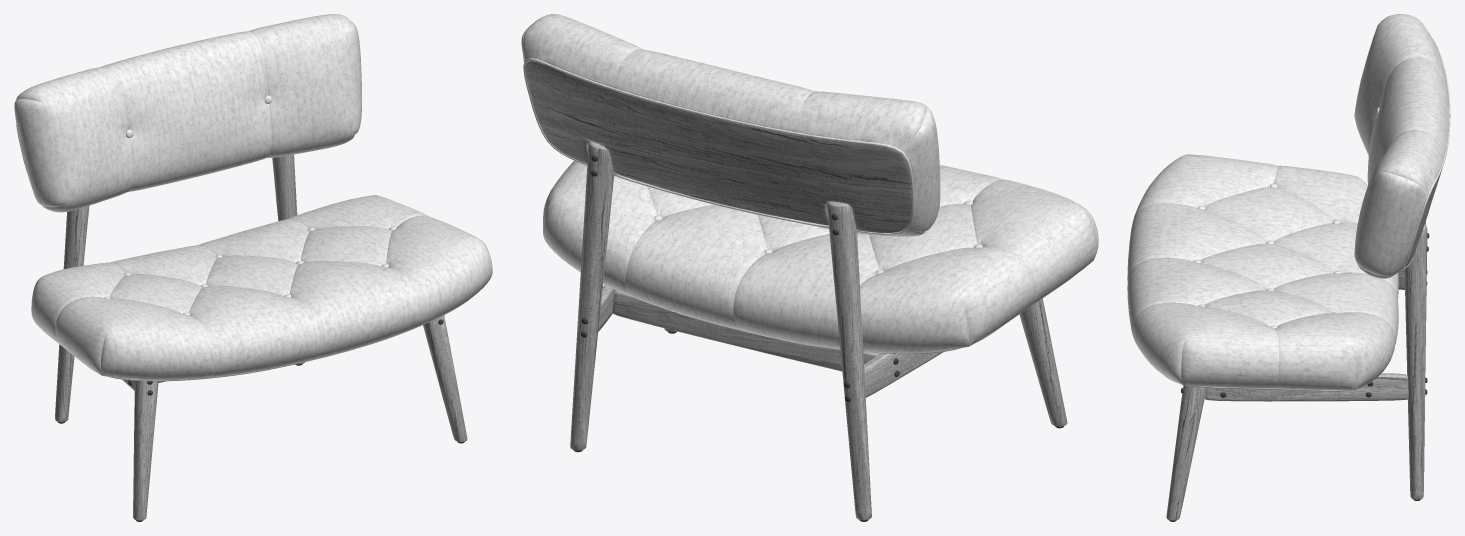
File: Chair_LOD1.obj
The picture shows the model from 3 angles, left to right: view 1: azimuth 30°, elevation 25°; view 2: azimuth 150°, elevation 25°; view 3: azimuth 270°, elevation 25°; orthographic projection. The views are drawn at different scales.
Parts seen in each view (by area): view 1: SheenChair_fabric, SheenChair_wood; view 2: SheenChair_fabric, SheenChair_wood; view 3: SheenChair_fabric, SheenChair_wood.
Boxes of the visible parts, x1,y1,x2,y2 form: SheenChair_fabric: (14,14,492,381); SheenChair_wood: (55,154,467,520); SheenChair_fabric: (521,14,1098,354); SheenChair_wood: (525,61,1067,520); SheenChair_fabric: (1127,14,1450,391); SheenChair_wood: (1166,170,1441,520).
Bounding box in the file's own units: 1.08 × 0.9001 × 0.7479.
